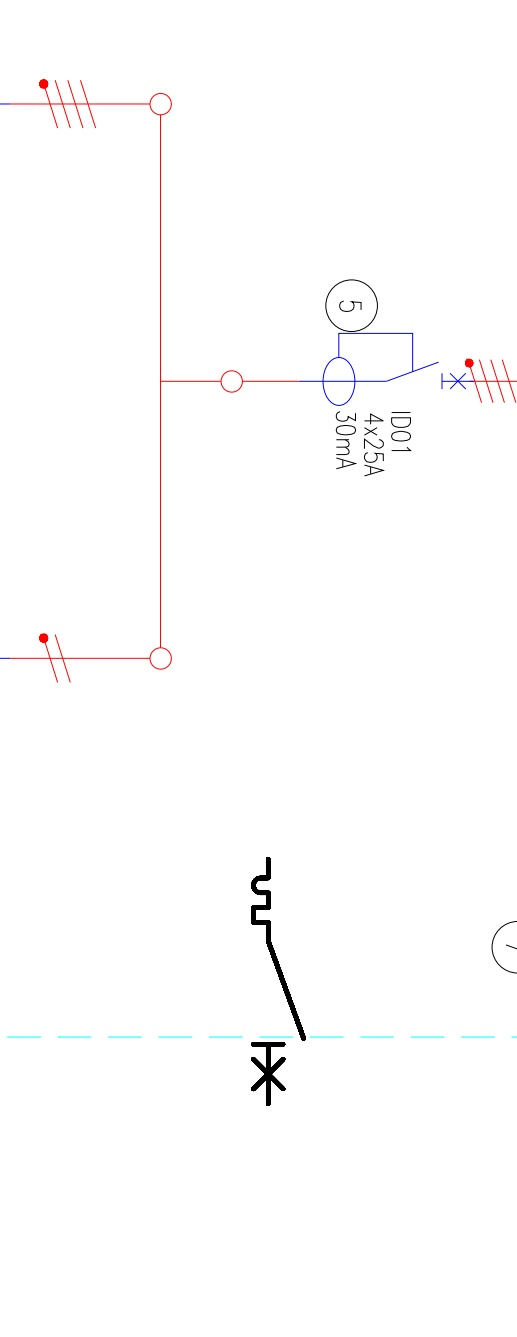interruptor_termomagnetico: (247, 853, 310, 1110)
